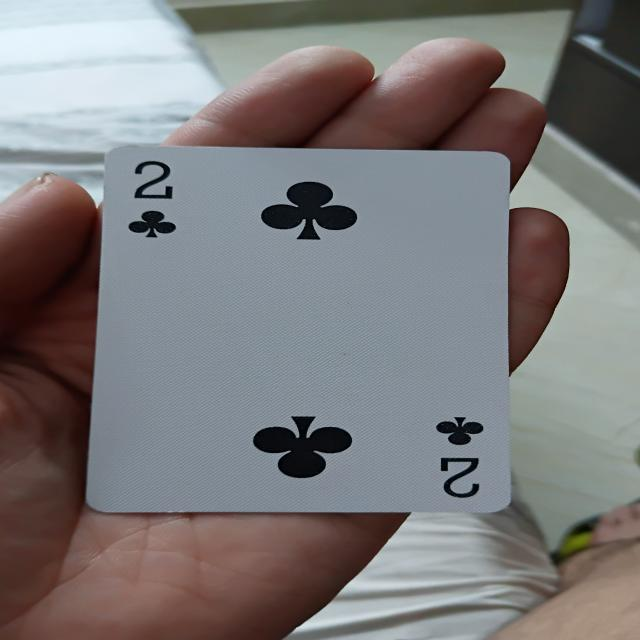2C: (96, 144, 527, 521)
